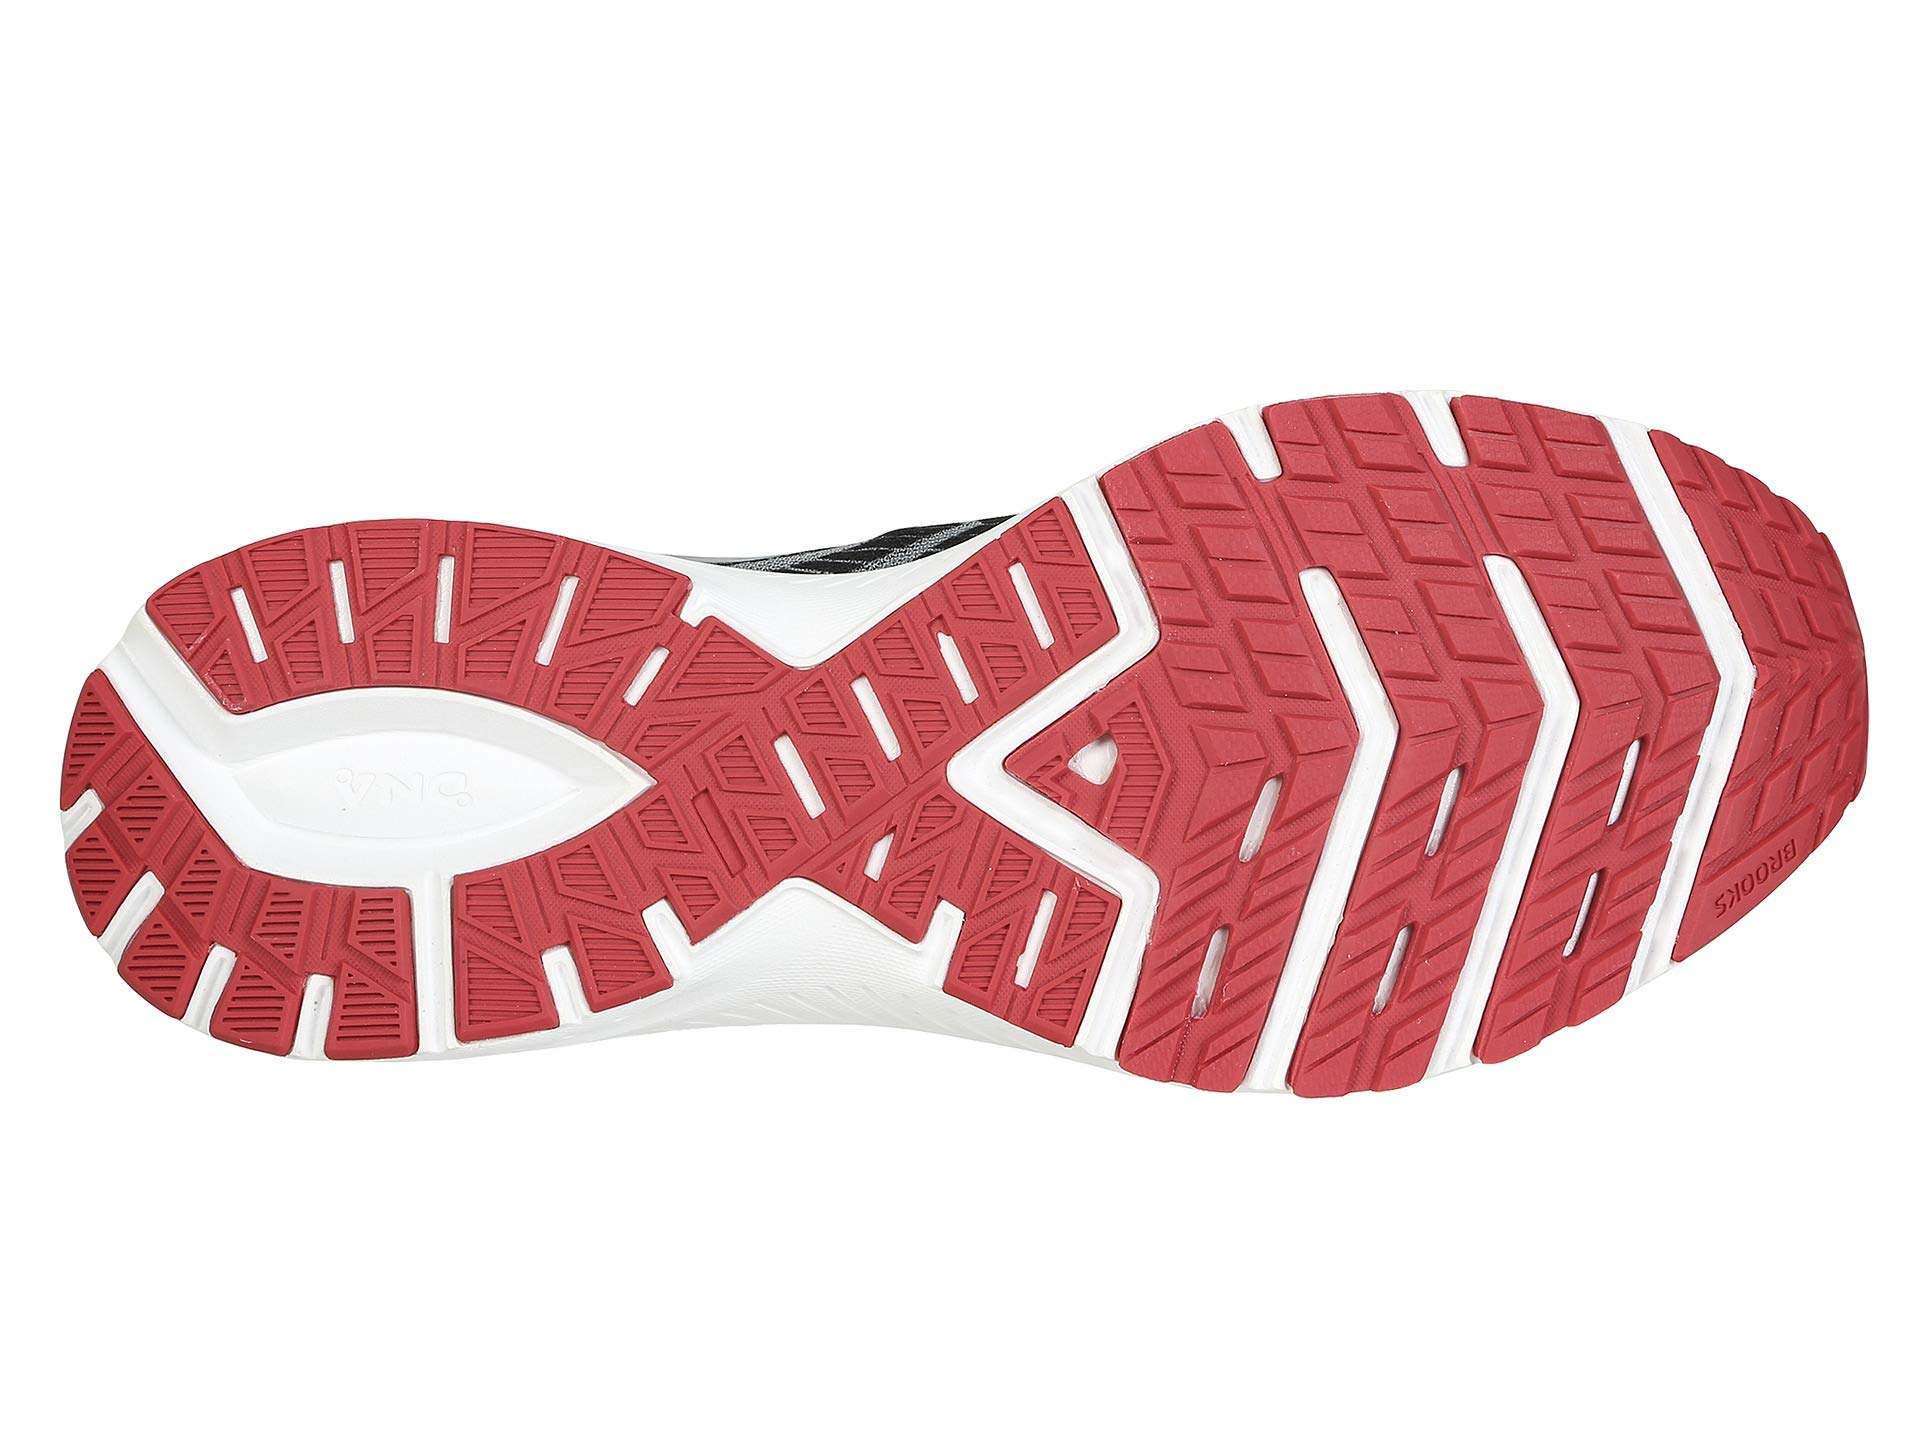chevron: (999, 684, 1205, 885), (1267, 691, 1447, 850)
line: (620, 601, 974, 977), (154, 818, 434, 1115), (194, 508, 476, 791), (1219, 445, 1457, 679), (999, 684, 1205, 885)
polygon: (620, 601, 974, 977)
quad: (620, 601, 974, 977), (154, 818, 434, 1115), (194, 508, 476, 791), (1219, 445, 1457, 679), (999, 684, 1205, 885), (1267, 691, 1447, 850)
